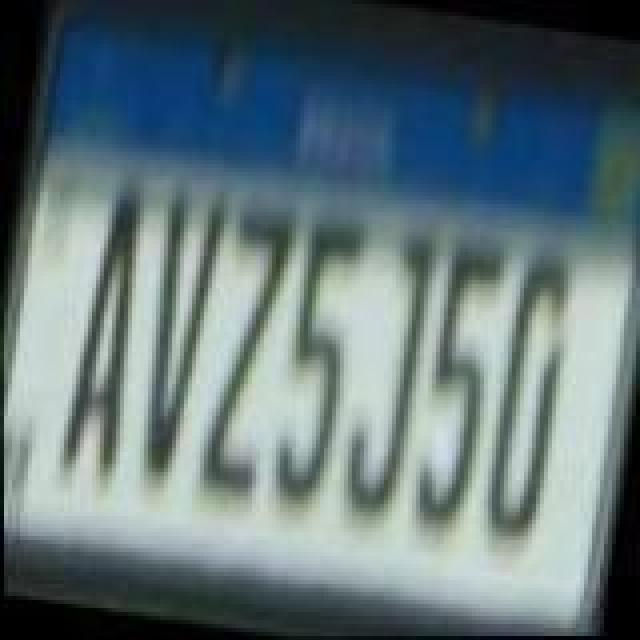5: (268, 214, 368, 510), (406, 240, 506, 536)
A: (56, 190, 156, 474)
D: (478, 250, 578, 550)
J: (336, 228, 436, 524)
V: (128, 194, 228, 478)
Z: (194, 204, 298, 500)
